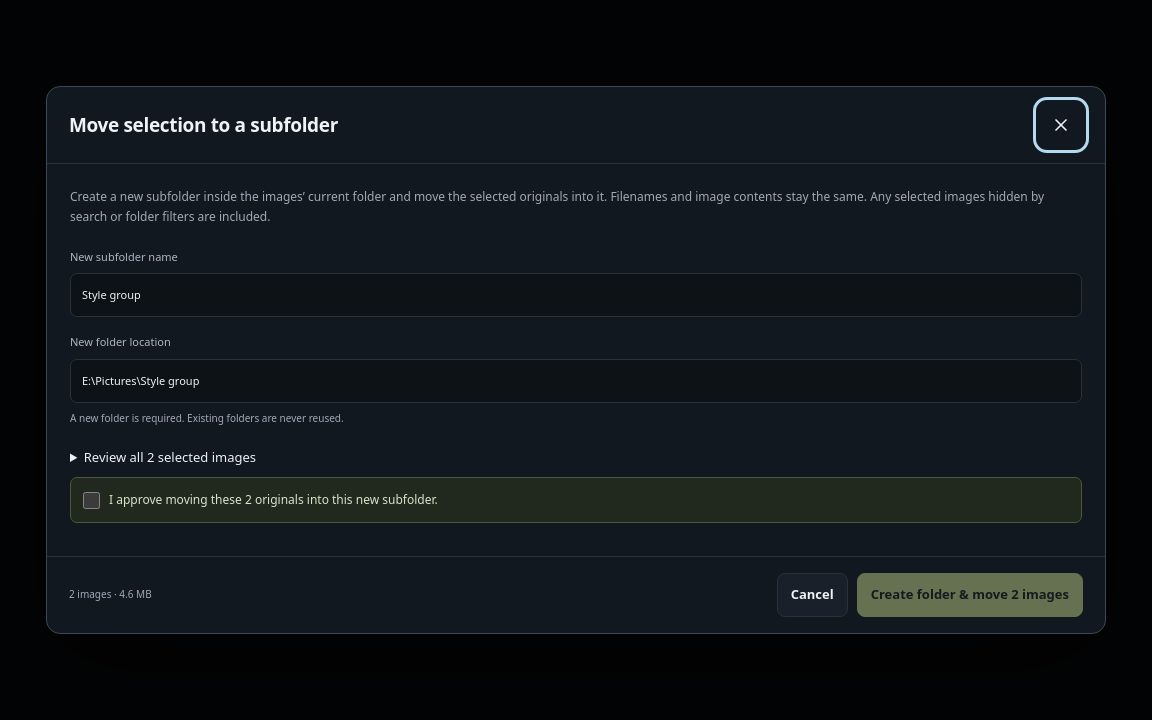
Scenario: move selected images into a style subfolder › clears approval when the folder name changes and shows Windows name errors
Replace the text in the field labelled "New subfolder name" with "Ink" at (576, 296), box [70,274,1082,318]
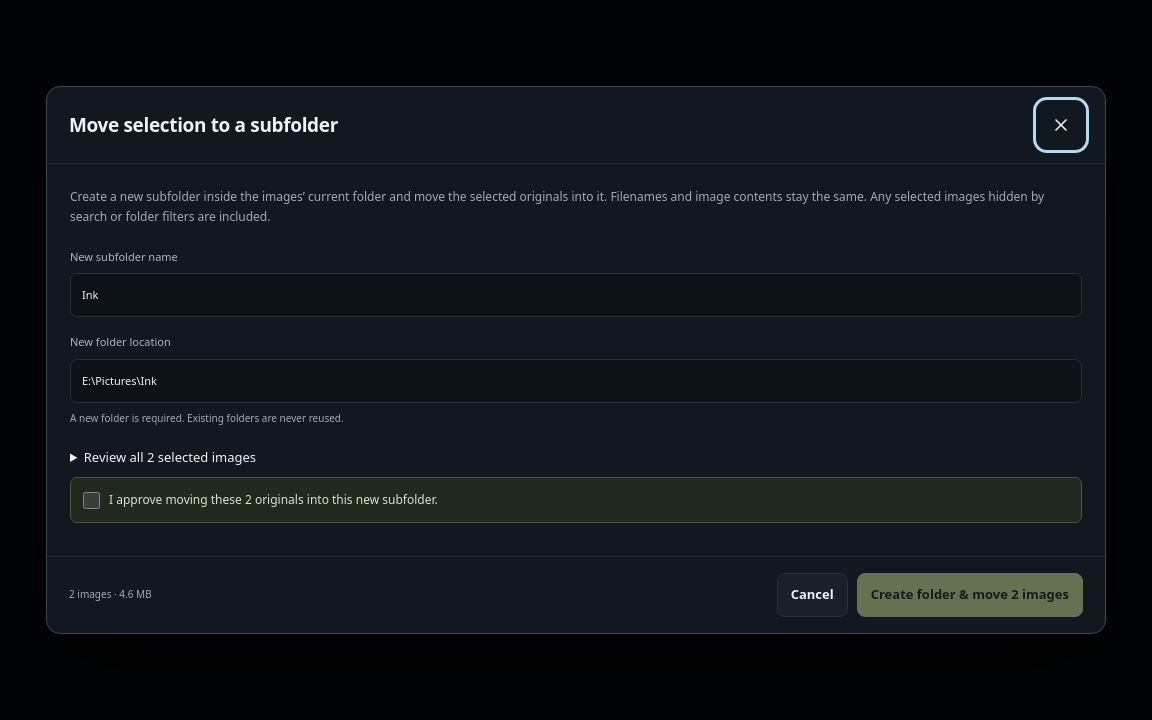
Click the checkbox labelled "I approve moving these 2 originals into this new subfolder." at (92, 500), box [83,492,100,508]
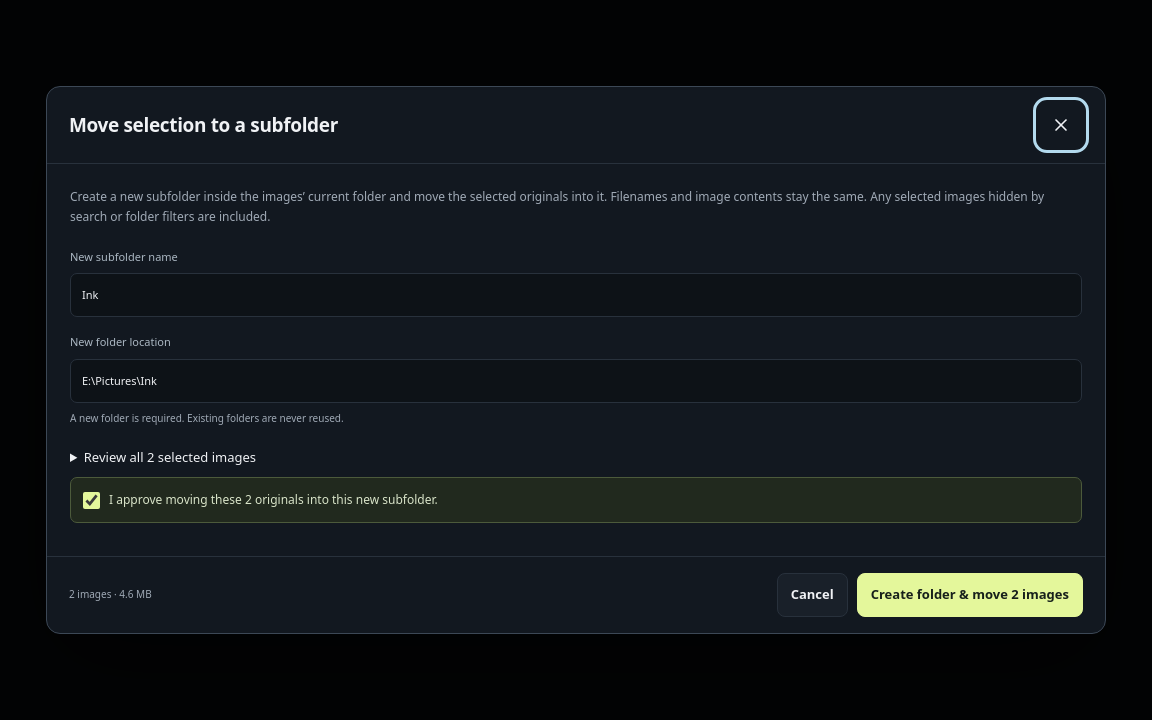
Now the button "Create folder & move 2 images" is enabled, box [857,573,1083,617]
Replace the text in the field labelled "New subfolder name" with "../Ink" at (576, 296), box [70,274,1082,318]
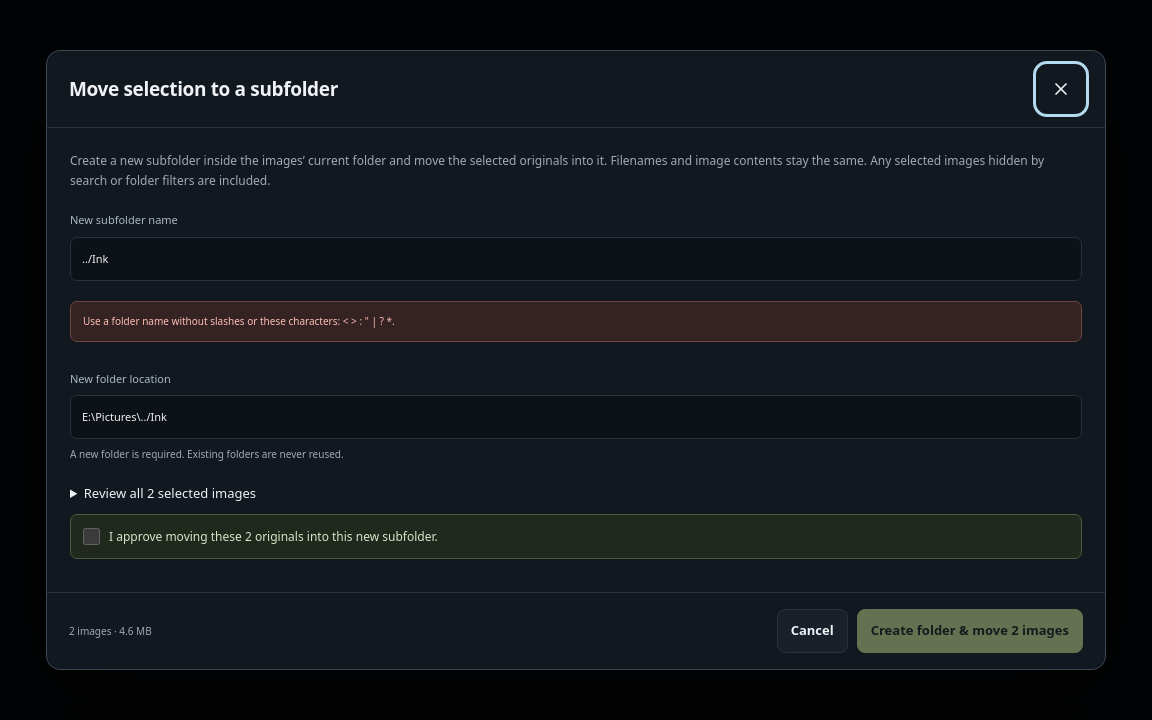
Now the checkbox is not checked, box [83,528,100,545]
Now the button "Create folder & move 2 images" is disabled, box [857,609,1083,653]
Now the text "without slashes" is shown, box [83,314,395,328]
